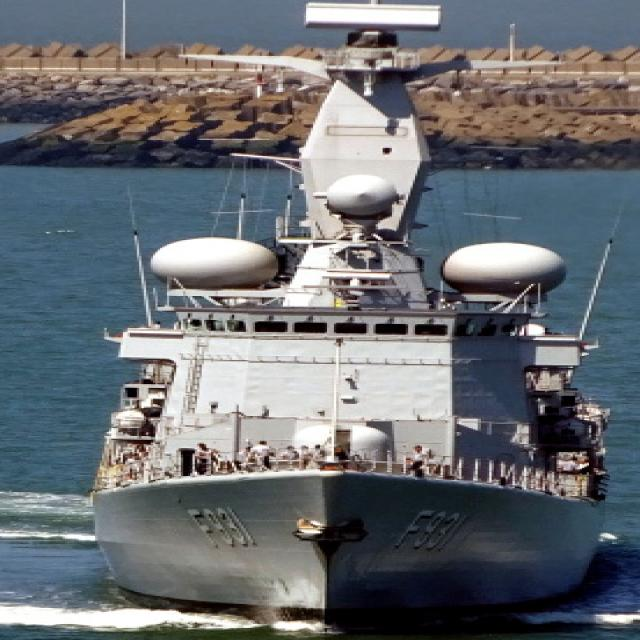Fragata: (84, 1, 617, 630)
